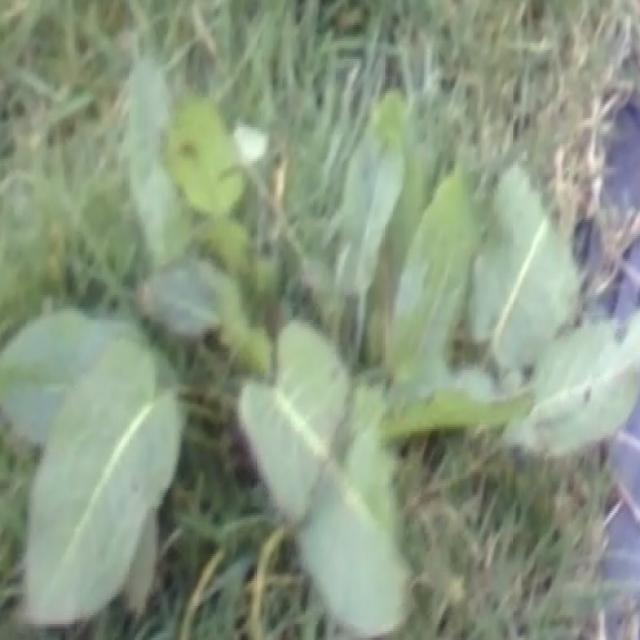organic waste: (4, 51, 622, 636)
